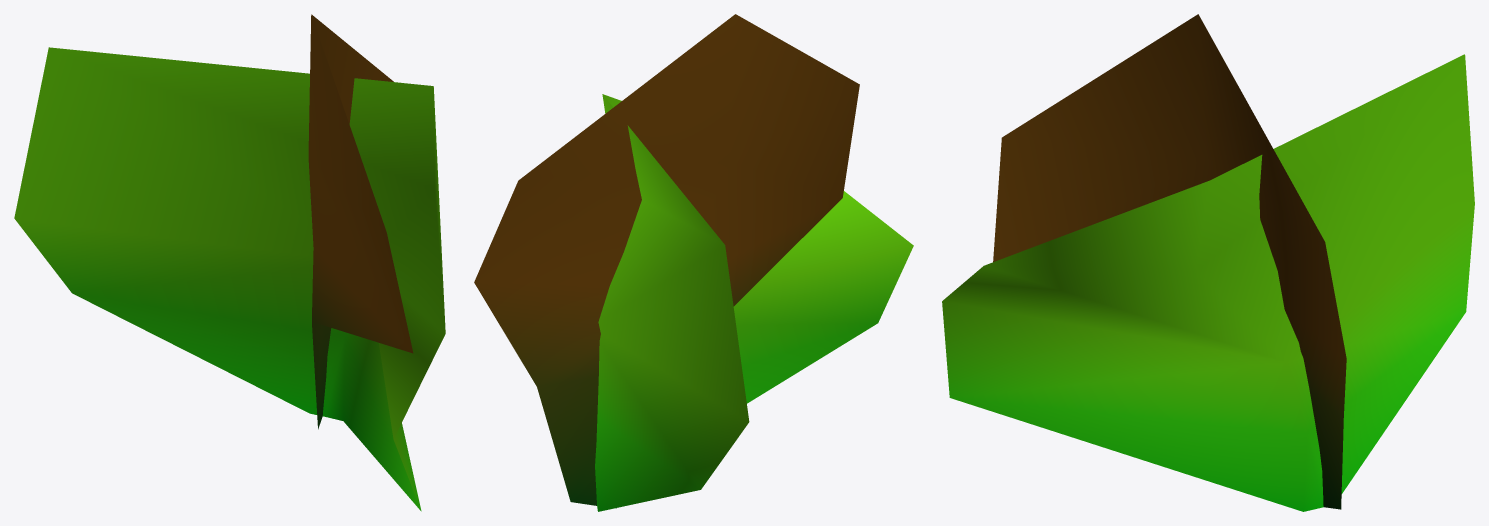
File: Var1Hi28.fbx
The picture shows the model from 3 angles, left to right: view 1: azimuth 30°, elevation 25°; view 2: azimuth 150°, elevation 25°; view 3: azimuth 270°, elevation 25°; orthographic projection. The views are drawn at different scales.
Parts seen in each view (by area): view 1: bend1; view 2: bend1; view 3: bend1.
Part boxes in pixels (left/top/right/bottom): bend1: left=14, top=14, right=445, bottom=511; bend1: left=474, top=14, right=913, bottom=511; bend1: left=942, top=14, right=1474, bottom=511.
Bounding box in the file's own units: 1.04 × 1.36 × 1.42.
